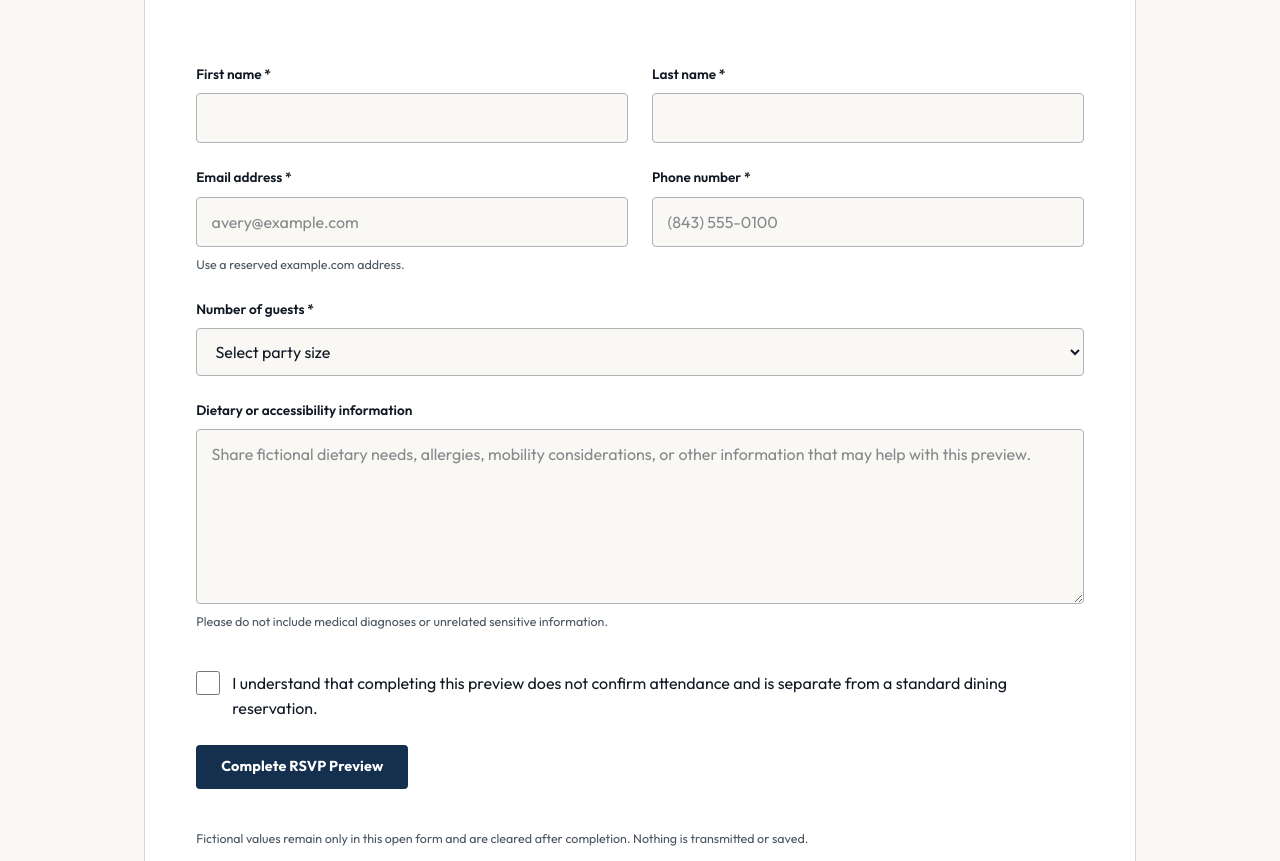
Test case: event RSVP preview › discloses the no-I/O preview and focuses an associated validation summary
(page scrolled)
Click the button "Complete RSVP Preview": [302, 766] box [196,744,408,788]
(page scrolled)
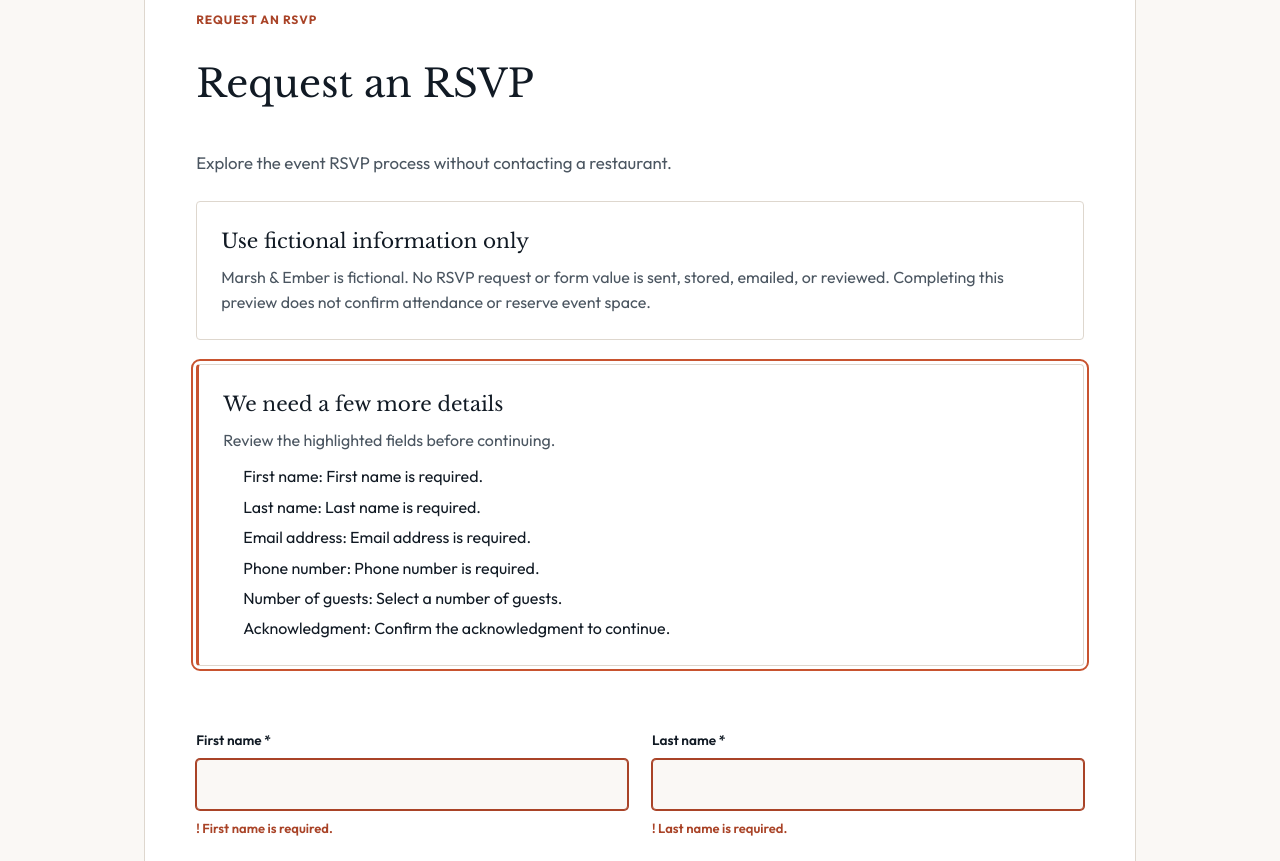
Check: the message shows "First name is required", box [243,466,483,486]
In the field labelled "First name *": [412, 785] box [196,759,628,810], type "Avery"
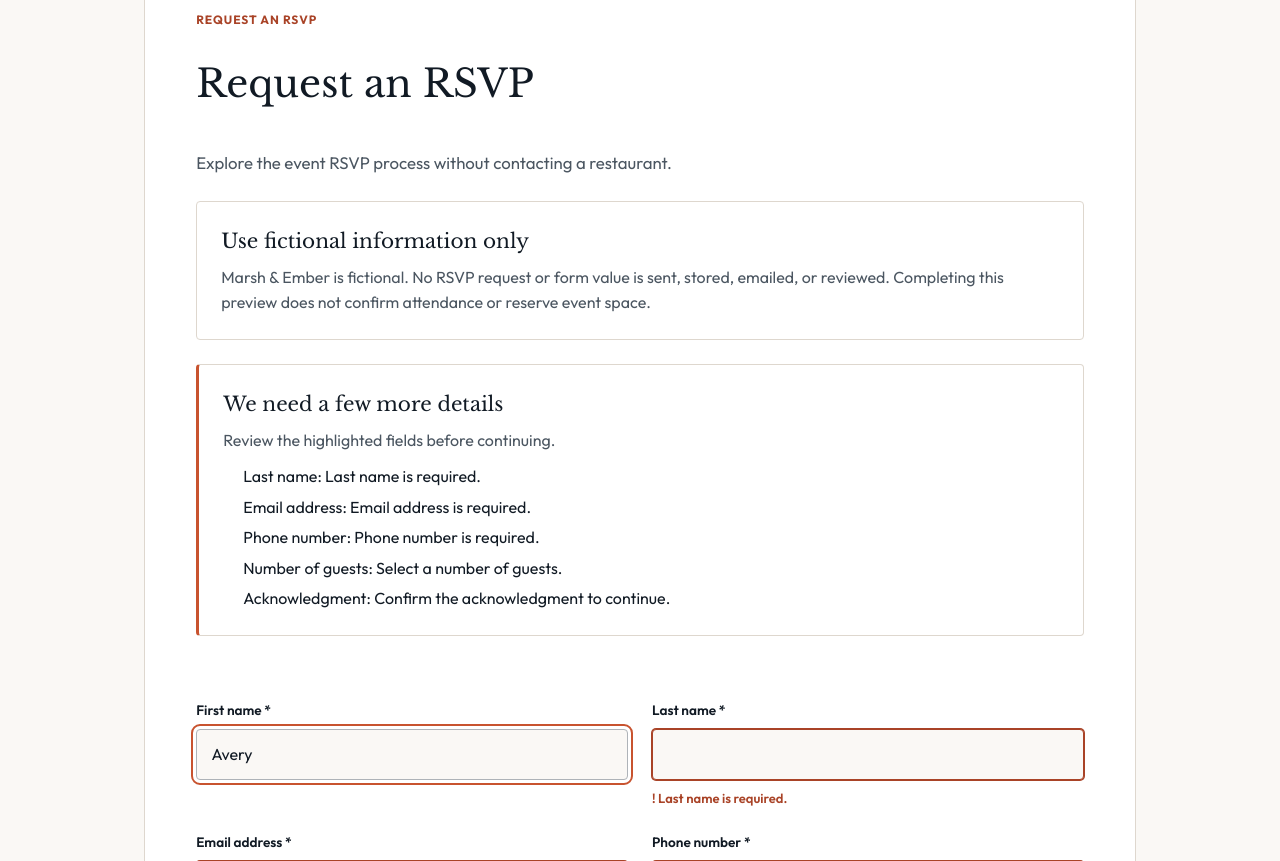
Check: the message shows "Last name is required", box [243,466,481,486]
Check: the link "First name is required." is gone
